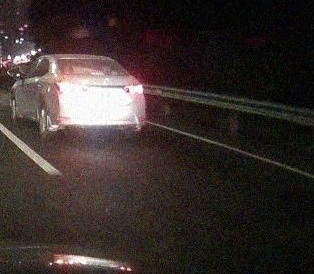L_light: (54, 81, 83, 94)
R_light: (122, 83, 144, 96)
T_light: (82, 58, 97, 62)
night-no: (49, 54, 146, 136)
